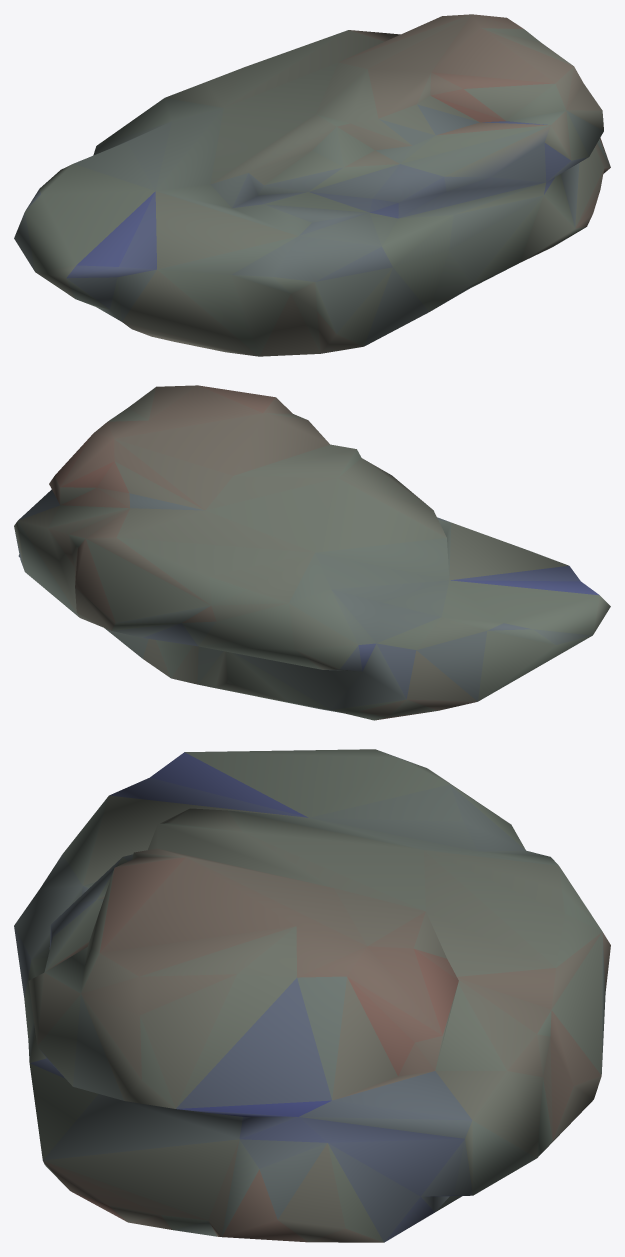
File: rock_single_01_LOD.fbx
The picture shows the model from 3 angles, top to bottom: view 1: azimuth 30°, elevation 25°; view 2: azimuth 150°, elevation 25°; view 3: azimuth 270°, elevation 25°; orthographic projection. The views are drawn at different scales.
Parts seen in each view (by area): view 1: Rock_Single_01_LOD; view 2: Rock_Single_01_LOD; view 3: Rock_Single_01_LOD.
Part boxes in pixels (x1,y1,x2,y2): Rock_Single_01_LOD: (14,14,610,356); Rock_Single_01_LOD: (14,385,610,720); Rock_Single_01_LOD: (14,749,610,1242).
Bounding box in the file's own units: 400 × 148 × 232.
